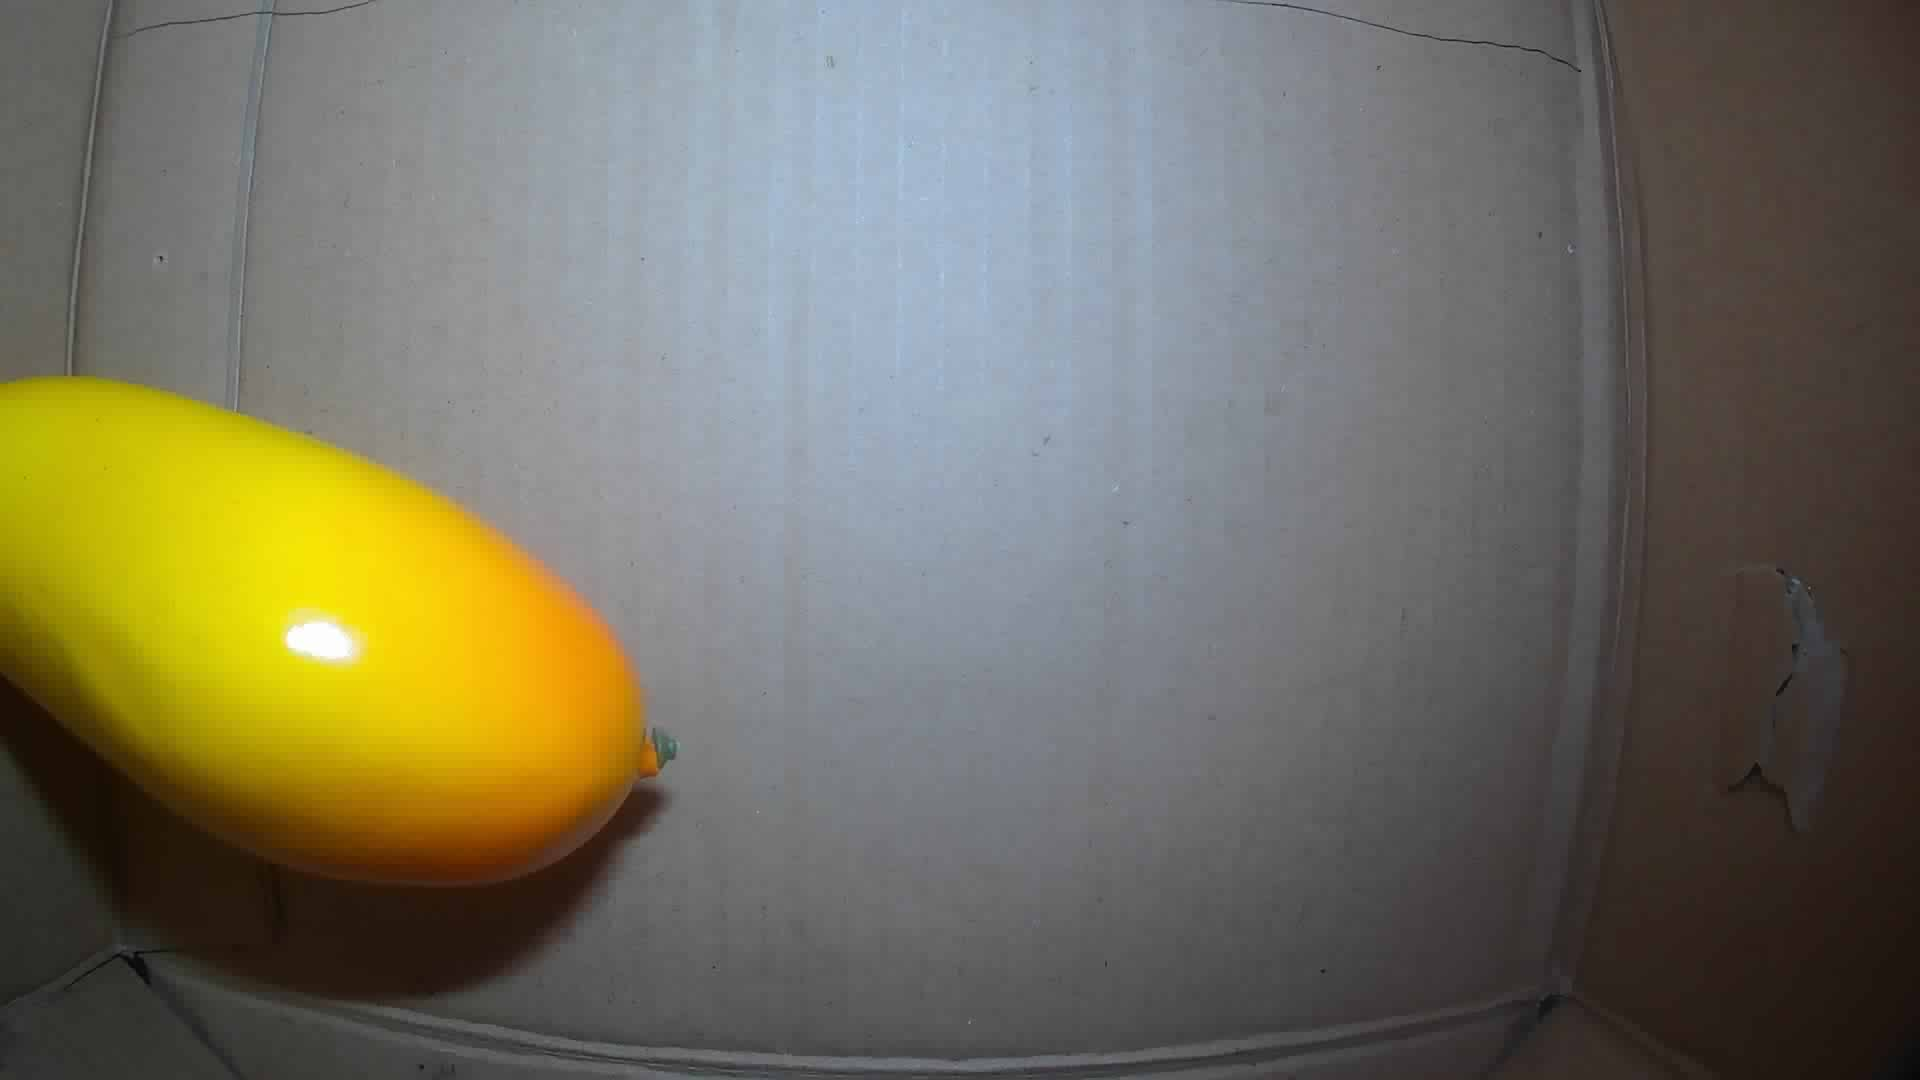mango: (1, 373, 675, 887)
